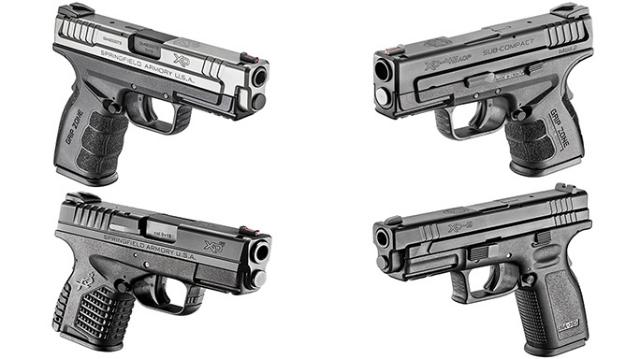handgun: (49, 0, 274, 190), (369, 180, 595, 359), (371, 0, 595, 178), (49, 190, 275, 358)
